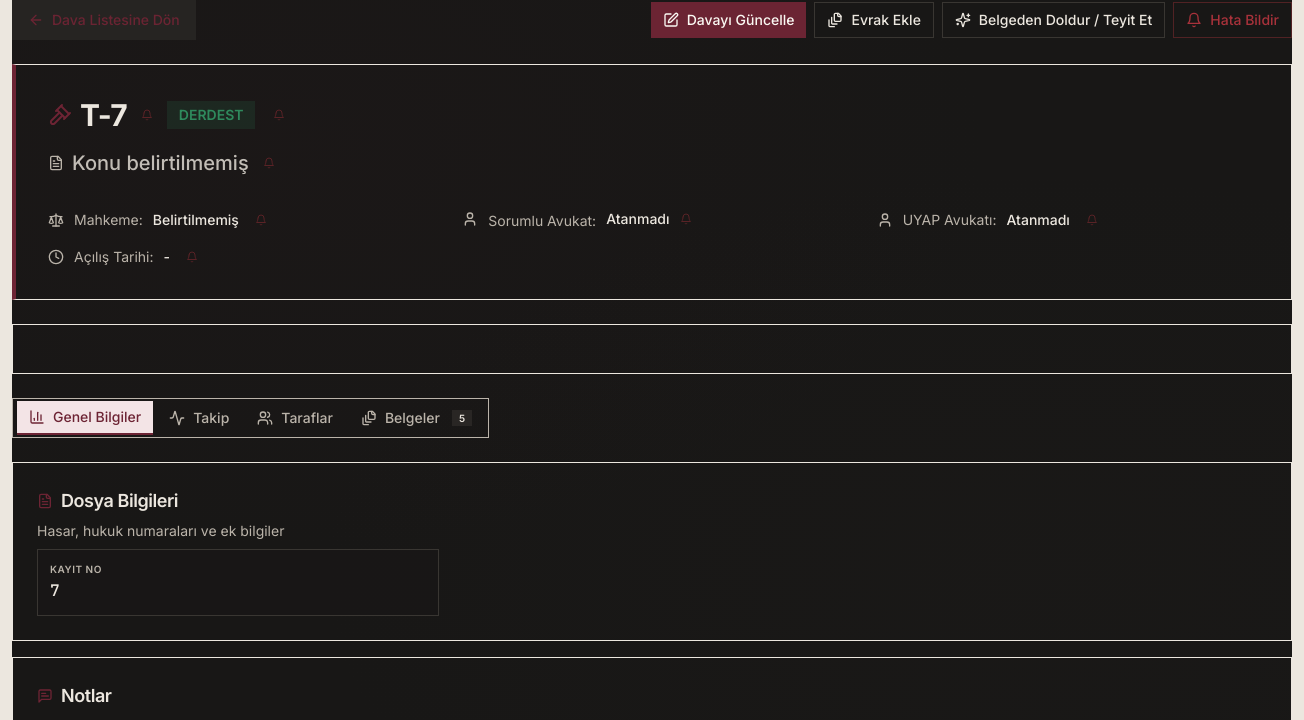
Test: CaseDetails — Belgeler: Gelen · Taslak · Giden (G283) › taslak satırı: e-posta ve PDF tezgâhı eylemleri gizli, Word'de aç / Sürümler / Kesinleştir açık (G285), '3 sürüm', silme kalır
Press the mouse on the tab "Belgeler 5" at (416,418), box [349,402,484,434]
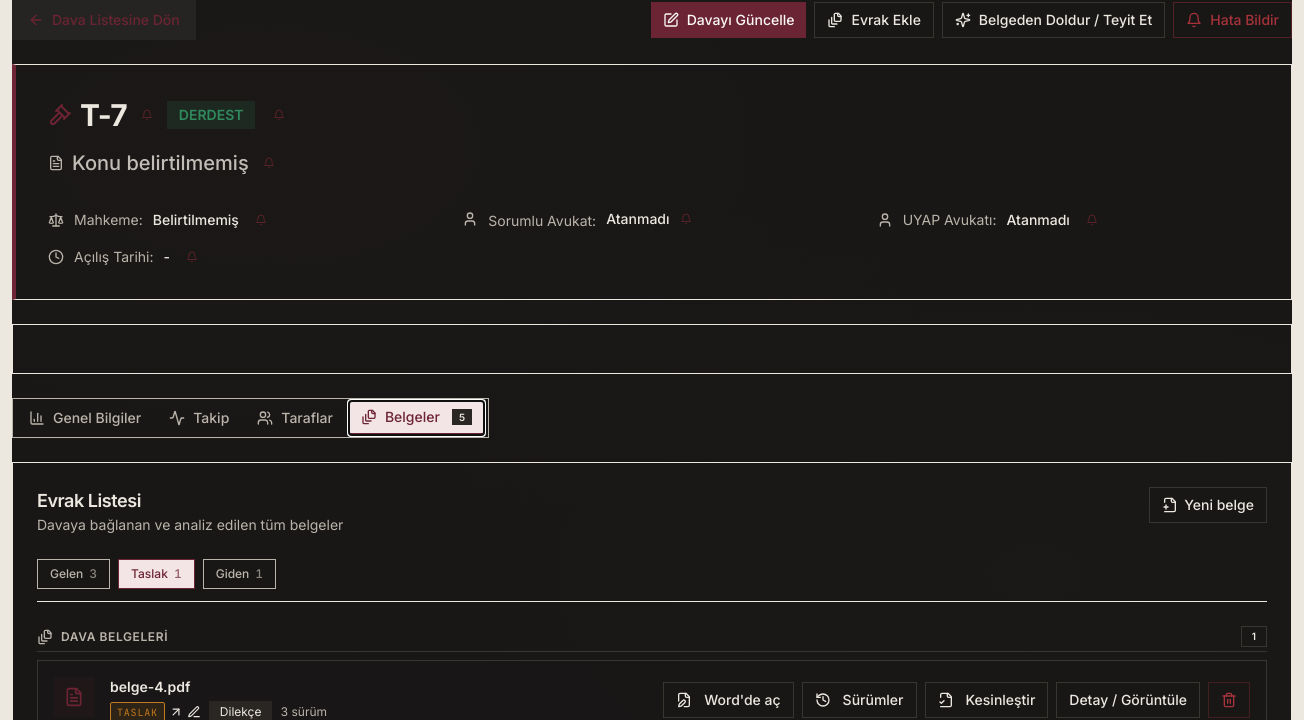
Now the button named "Belgeyi sil" is shown, box [1208,682,1250,718]
Now the text with test id "belge-surum-sayisi" reads "3 sürüm", box [280,704,327,719]
Click the button "Gelen 3" at (74,574), box [37,559,110,589]
(page scrolled)
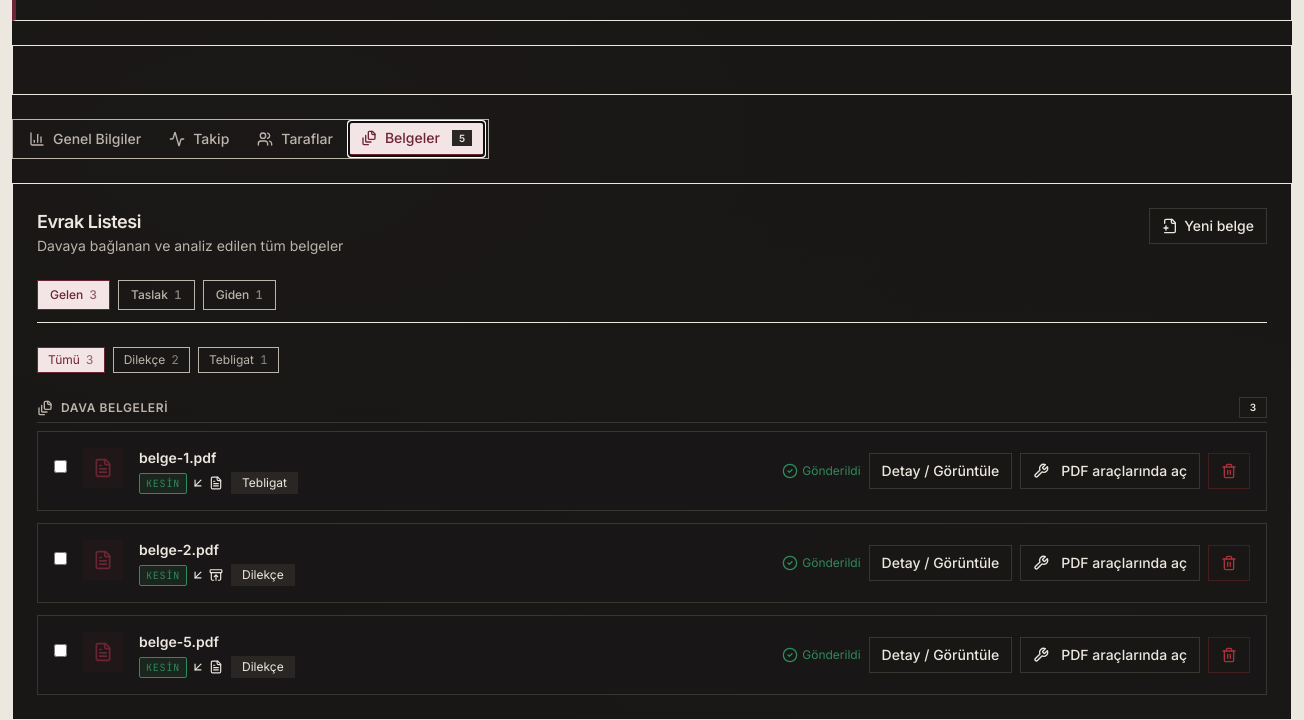
Now the checkbox named "Tezgâh için seç: belge-1.pdf" is shown, box [54,460,67,473]
